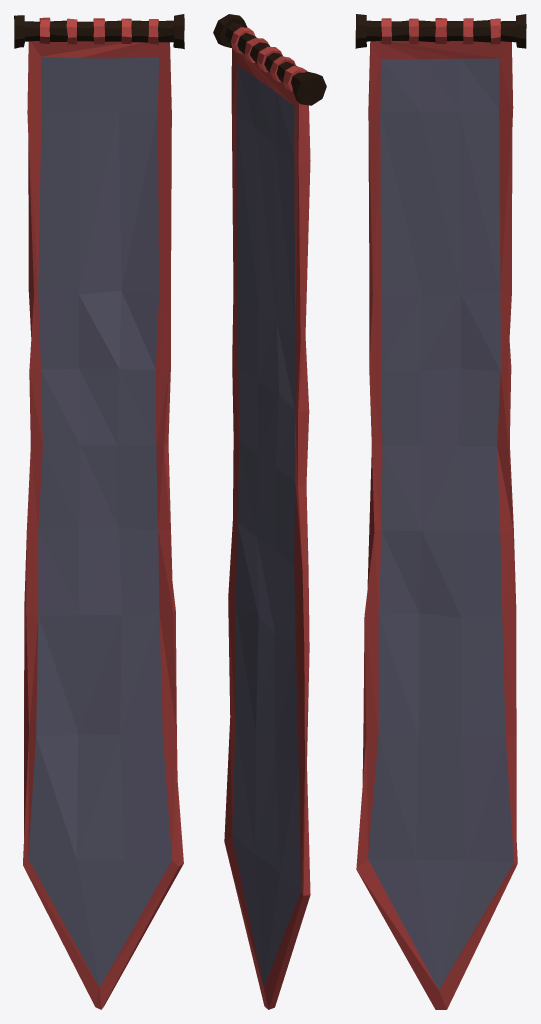
The model's file is SFFA_Banner.fbx.
3 renders of one model, left to right at view 1: azimuth 90°, elevation 25°; view 2: azimuth 210°, elevation 25°; view 3: azimuth 270°, elevation 25°, orthographic. The views are drawn at different scales.
Visible parts, largest first — view 1: SFFA_Banner; view 2: SFFA_Banner; view 3: SFFA_Banner.
Boxes of the visible parts, <box> form: SFFA_Banner: <box>14,14,184,1009</box>; SFFA_Banner: <box>213,14,326,1009</box>; SFFA_Banner: <box>355,14,526,1009</box>.
Bounding box in the file's own units: 9.08 × 270 × 42.05.
